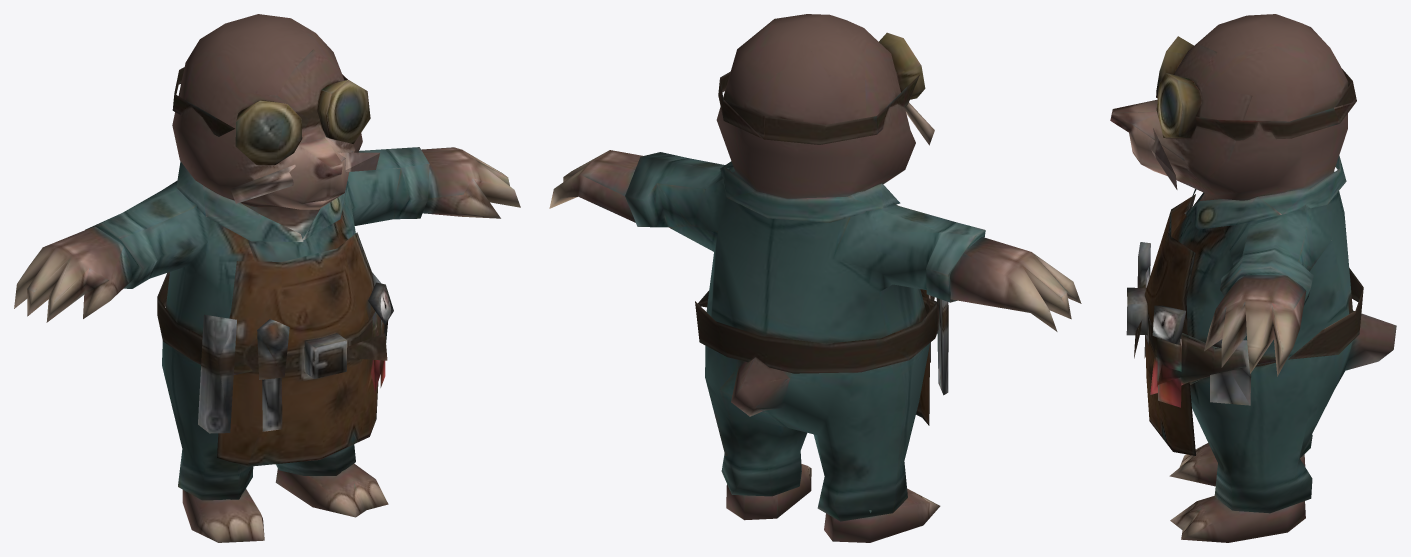
The model's file is source.glb.
3 views of the same model, side by side, from view 1: azimuth 30°, elevation 25°; view 2: azimuth 150°, elevation 25°; view 3: azimuth 270°, elevation 25° (orthographic). The views are drawn at different scales.
Bounding box in the file's own units: 1 × 0.9321 × 0.5074.
1 material, 1 textured.
